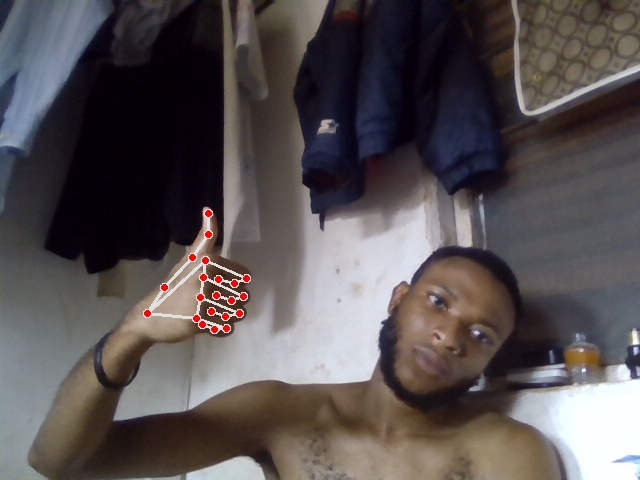thumbsup: (139, 205, 253, 345)
